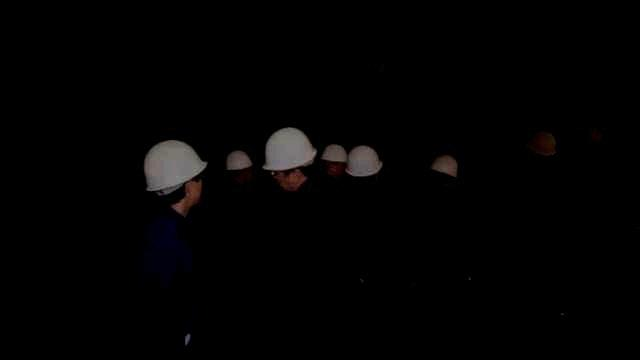helmet: (143, 140, 208, 211), (261, 127, 317, 190), (343, 145, 382, 177), (321, 143, 348, 174), (430, 155, 458, 178), (225, 150, 253, 171)
